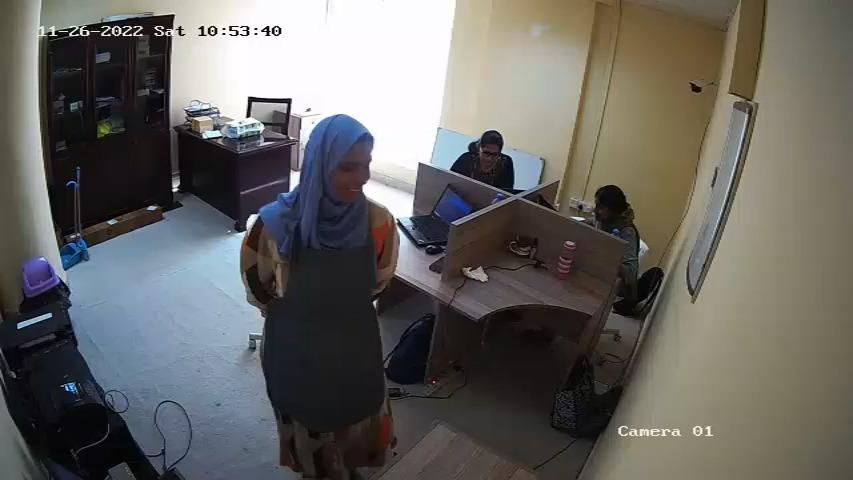apron: (259, 210, 389, 432)
